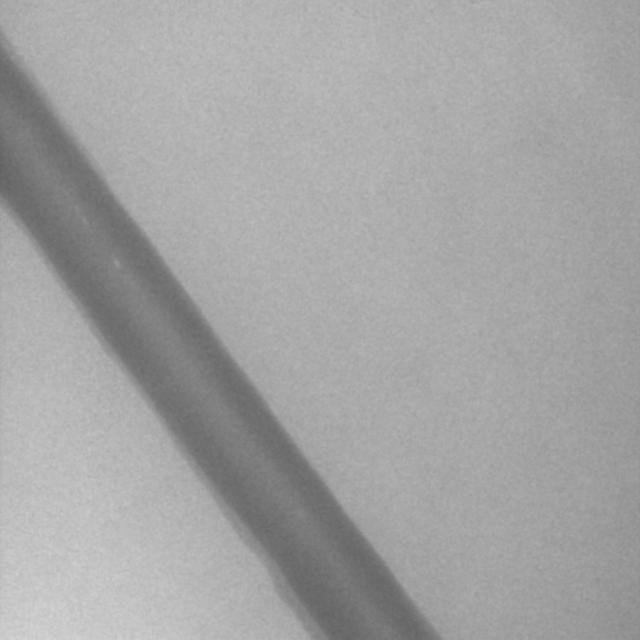air-hole: (296, 505, 303, 524), (112, 259, 121, 271), (82, 215, 90, 228), (74, 202, 82, 212)
